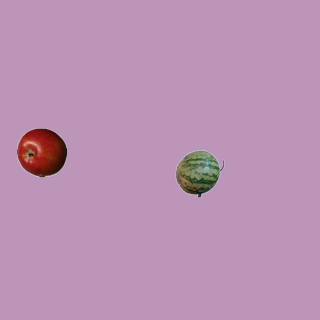Apple Braeburn: (16, 127, 66, 177)
Watermelon: (174, 148, 224, 198)
